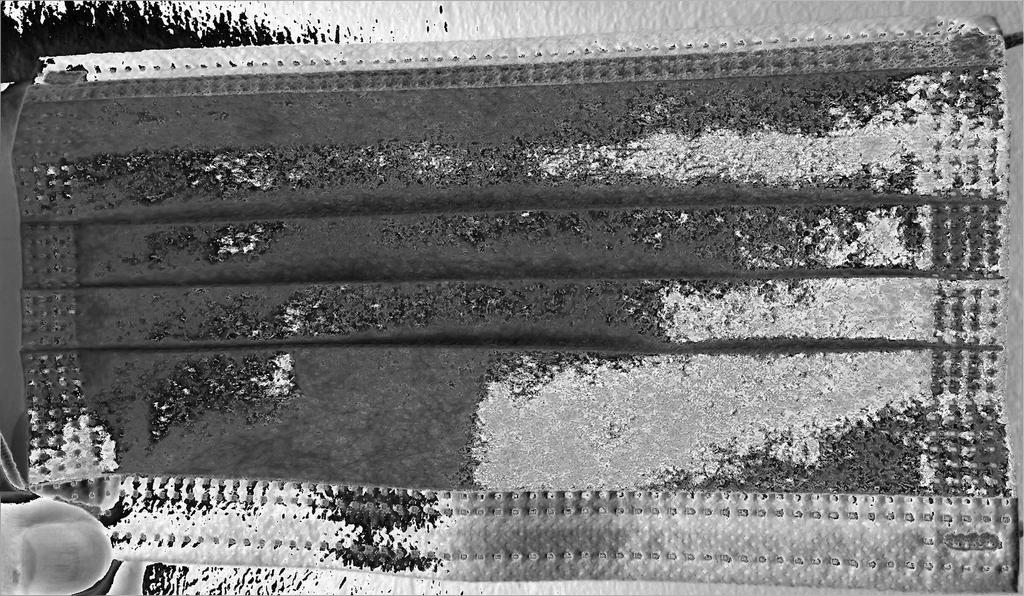Low GSM: (66, 71, 937, 488)
